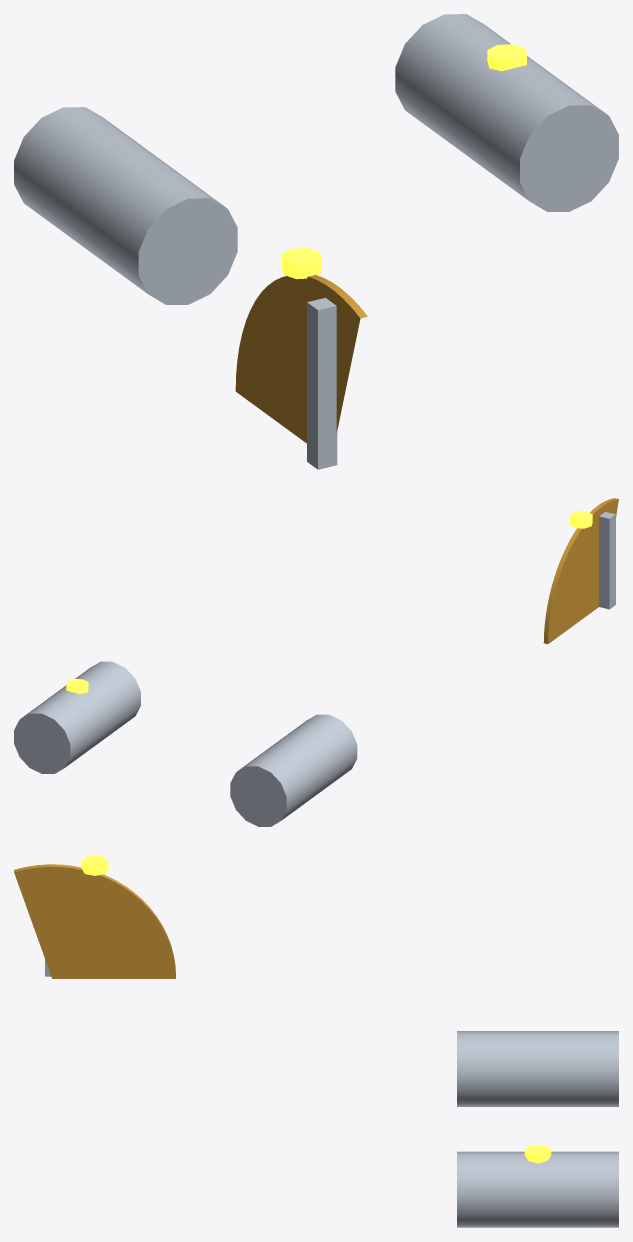
File: tower_nova_range_s3.glb
The picture shows the model from 3 angles, top to bottom: view 1: azimuth 30°, elevation 25°; view 2: azimuth 150°, elevation 25°; view 3: azimuth 270°, elevation 25°; orthographic projection. The views are drawn at different scales.
Visible parts, largest first — view 1: nova_recup_ext_r, nova_recup_ext_l, nova_quadrant_plate, nova_quadrant_pointer, nova_up_range_l2_stud, nova_up_range_l3_stud; view 2: nova_recup_ext_r, nova_recup_ext_l, nova_quadrant_plate, nova_quadrant_pointer; view 3: nova_quadrant_plate, nova_recup_ext_r, nova_recup_ext_l.
Part boxes in pixels (box(x1,y1,x2,y2)): nova_recup_ext_r: box(14, 107, 237, 304); nova_recup_ext_l: box(395, 14, 618, 211); nova_quadrant_plate: box(235, 275, 367, 443); nova_quadrant_pointer: box(307, 298, 337, 469); nova_up_range_l2_stud: box(282, 248, 321, 279); nova_up_range_l3_stud: box(487, 44, 526, 71); nova_recup_ext_r: box(230, 714, 357, 826); nova_recup_ext_l: box(14, 661, 140, 773); nova_quadrant_plate: box(543, 498, 618, 644); nova_quadrant_pointer: box(599, 512, 615, 609); nova_quadrant_plate: box(14, 864, 175, 978); nova_recup_ext_r: box(457, 1031, 618, 1106); nova_recup_ext_l: box(457, 1151, 618, 1227).
Size of the model in its own units: 0.973 by 0.4409 by 1.27.
